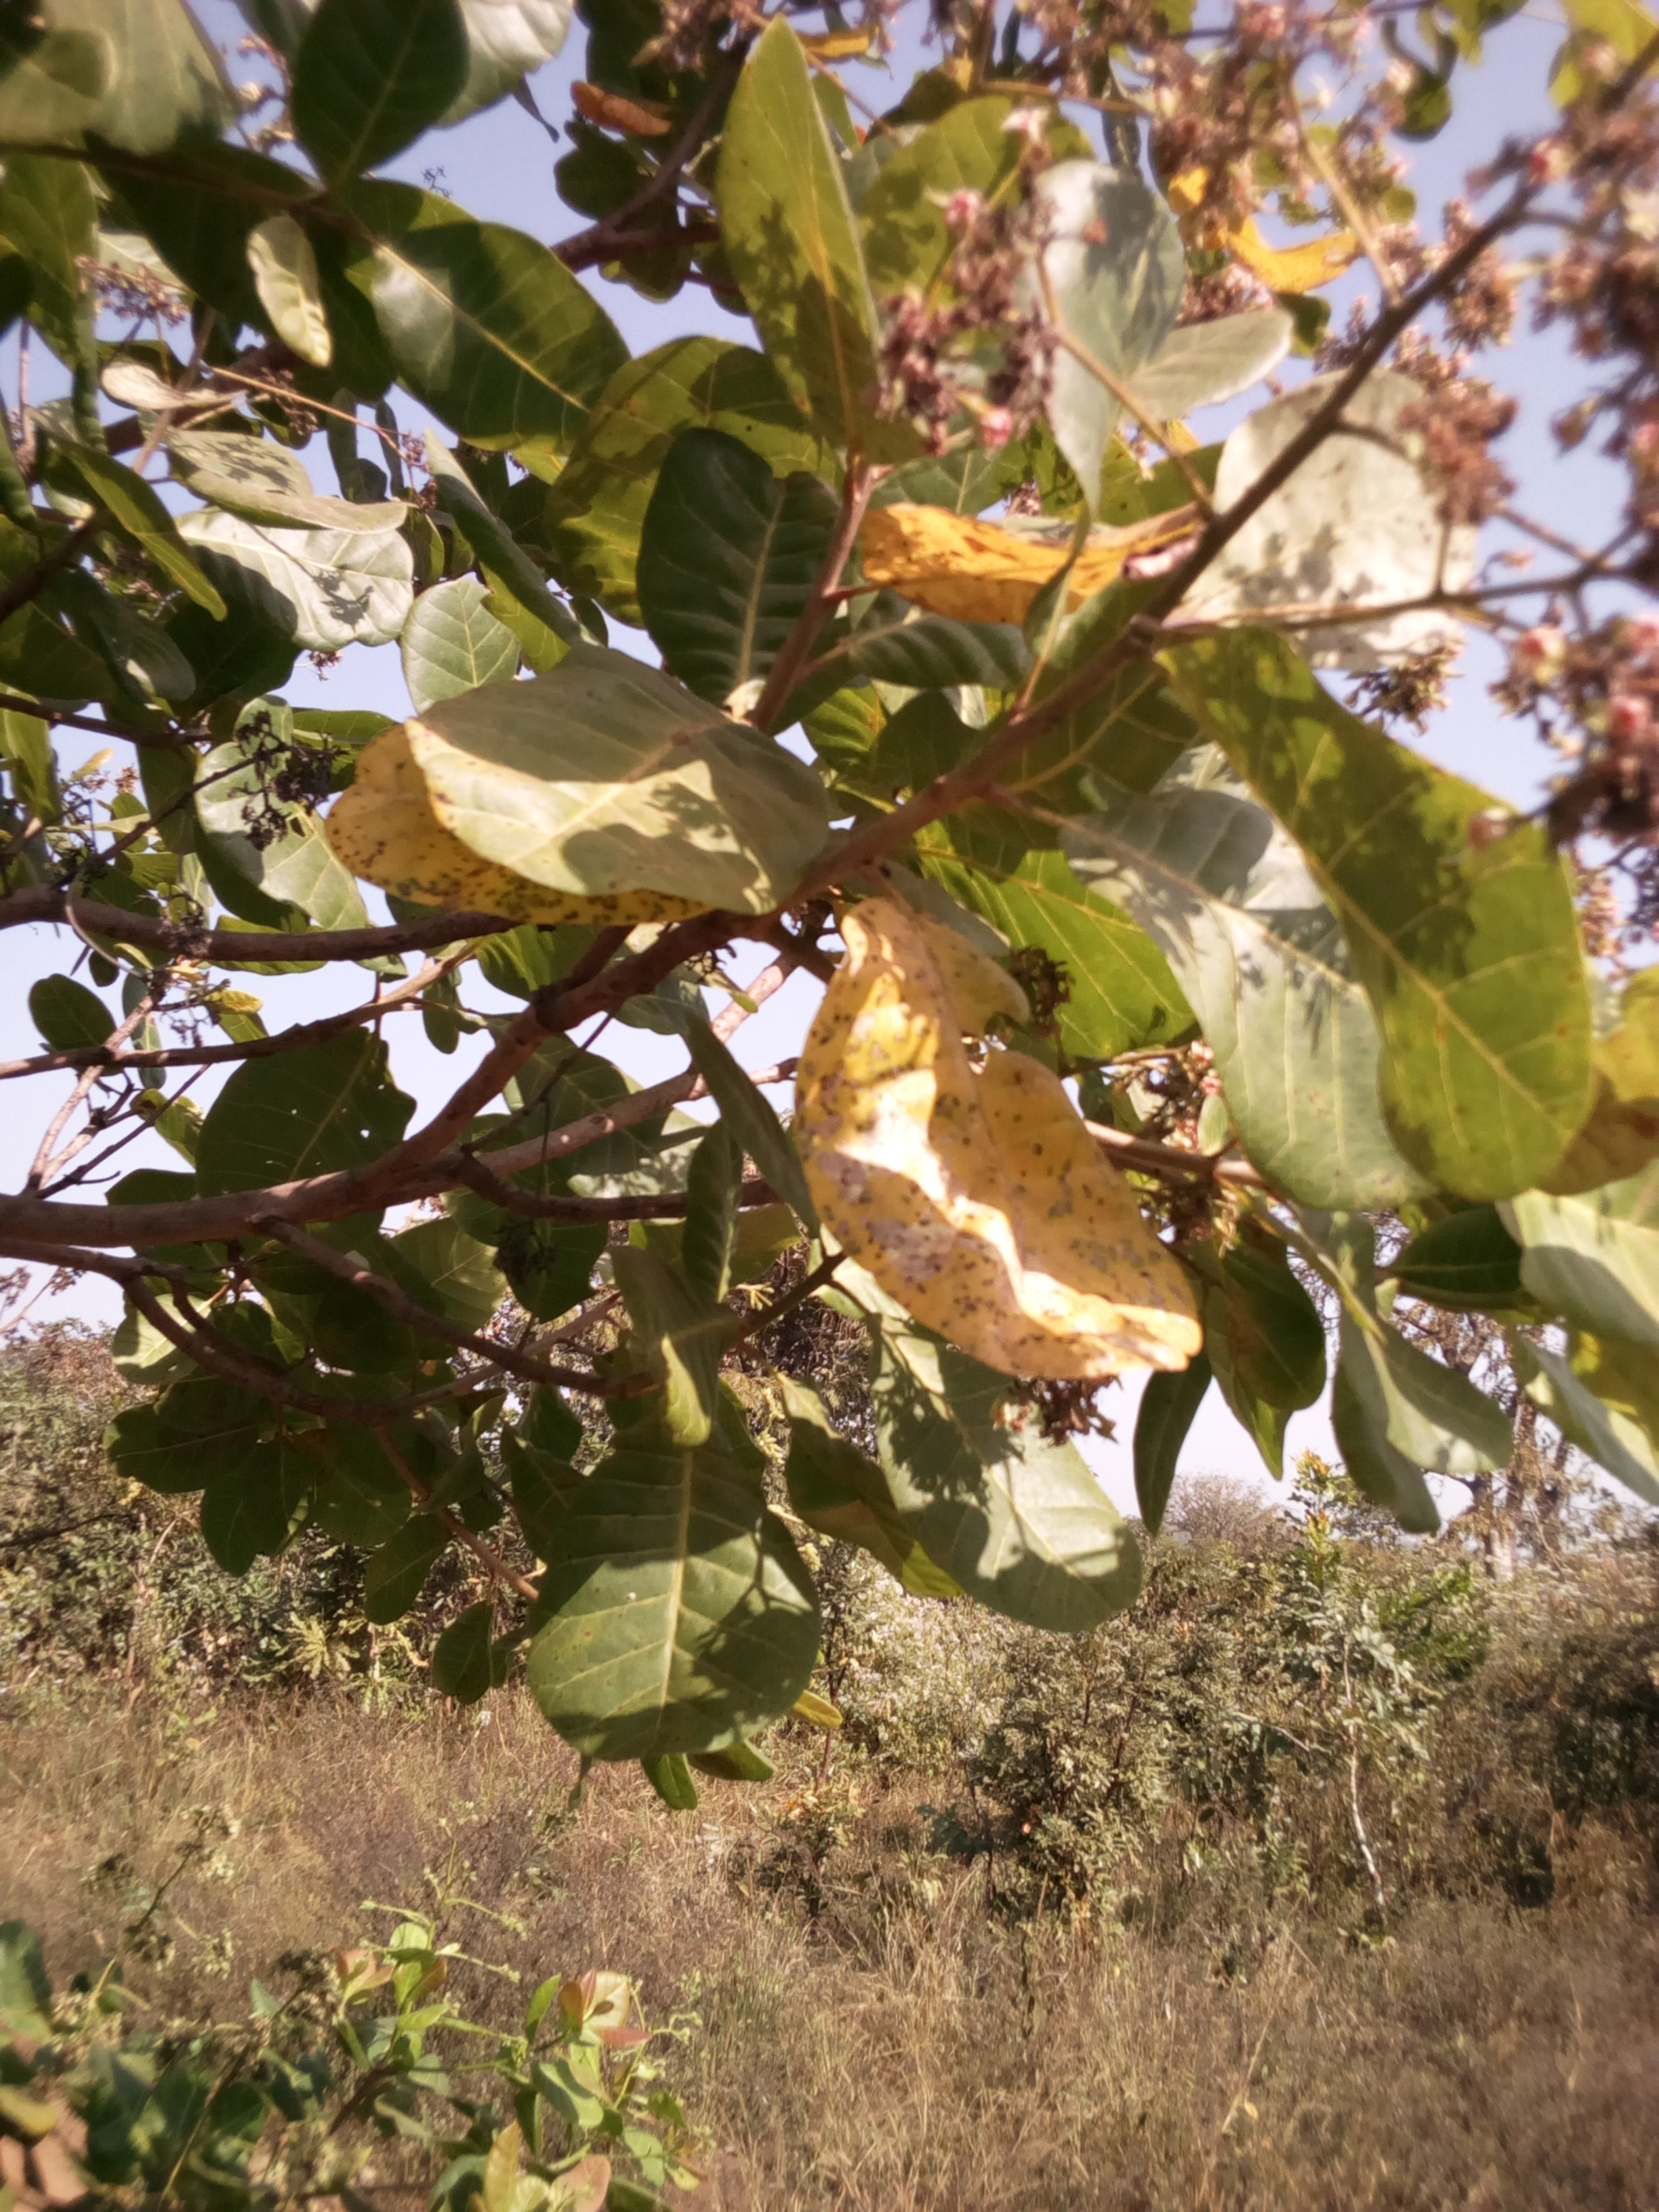Pestalotiose: (812, 895, 1195, 1378)
